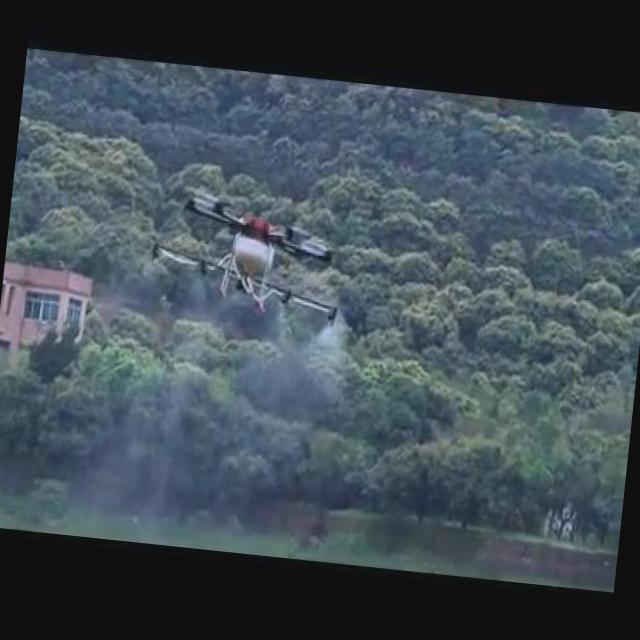drone: (148, 182, 350, 324)
